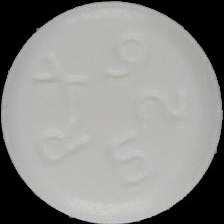68084-248: (0, 0, 224, 224)
